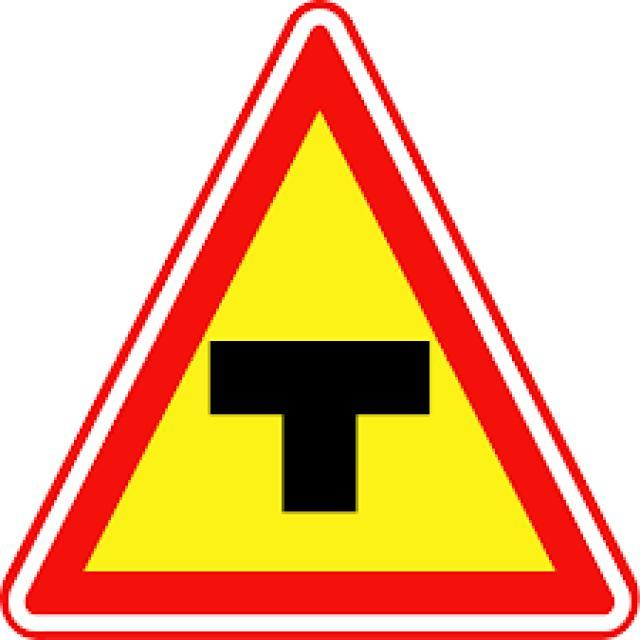t intersection: (21, 24, 618, 620)
